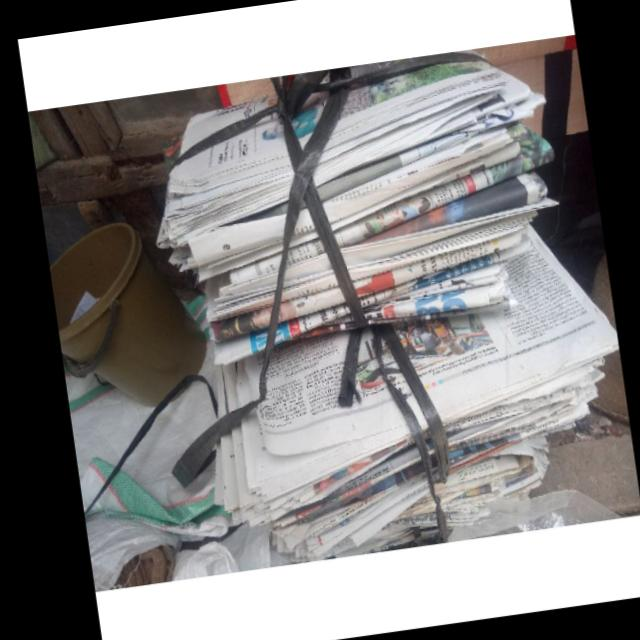Koran: (124, 34, 636, 576)
